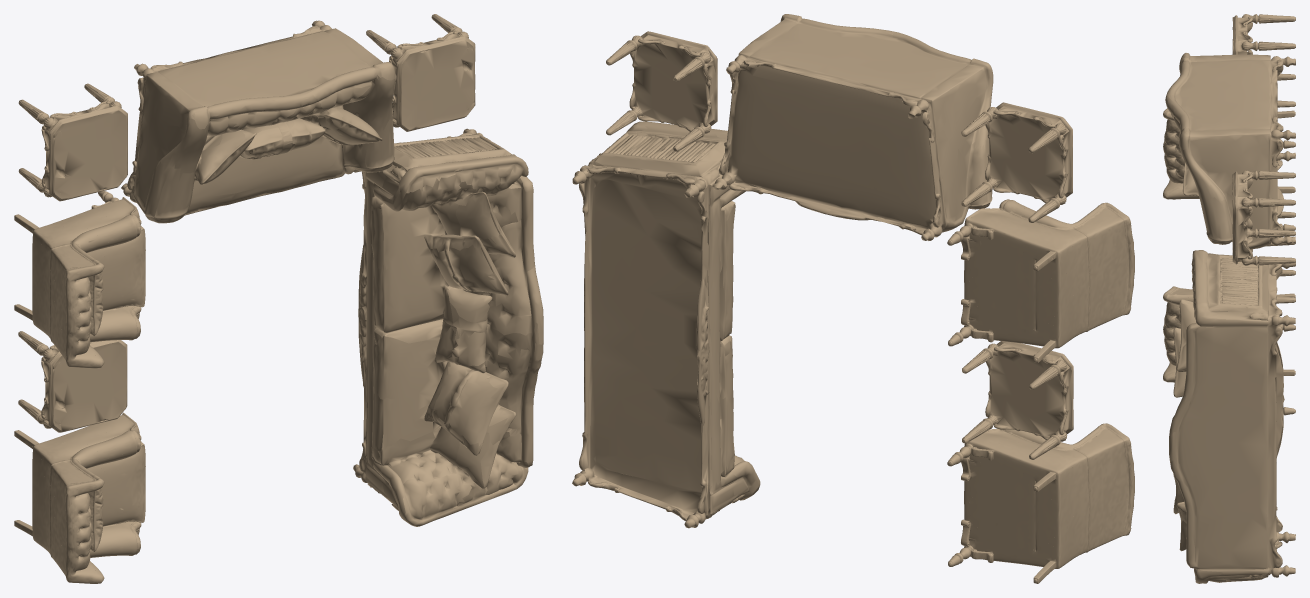
File: fahrenheit-set.glb
3 views of the same model, side by side, from view 1: azimuth 30°, elevation 25°; view 2: azimuth 150°, elevation 25°; view 3: azimuth 270°, elevation 25° (orthographic). The views are drawn at different scales.
Visible parts, largest first — view 1: fahrenheit-set; view 2: fahrenheit-set; view 3: fahrenheit-set.
Boxes of the visible parts, x1,y1,x2,y2 form: fahrenheit-set: [14, 14, 543, 583]; fahrenheit-set: [572, 14, 1134, 583]; fahrenheit-set: [1163, 14, 1295, 583].
Bounding box in the file's own units: 2.19 × 2.09 × 0.62.
